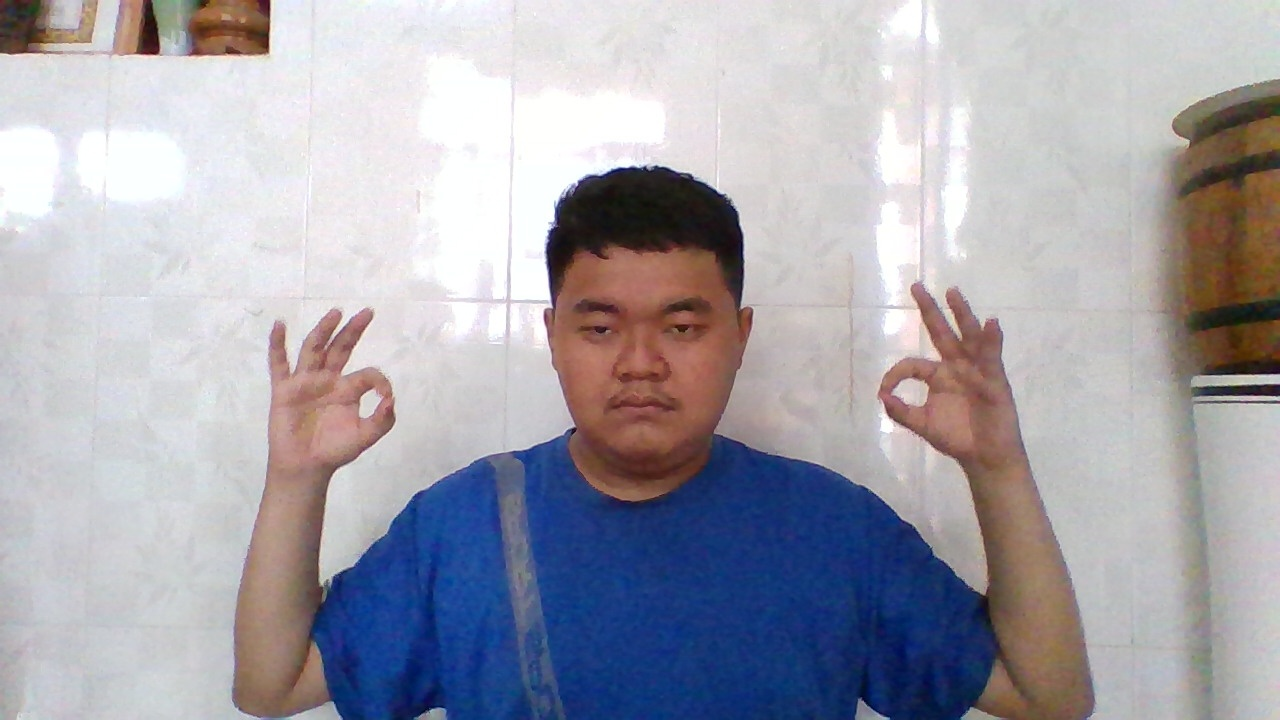T: (868, 270, 1009, 475), (260, 299, 406, 485)
